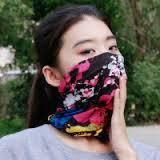OK: (58, 34, 125, 106)
